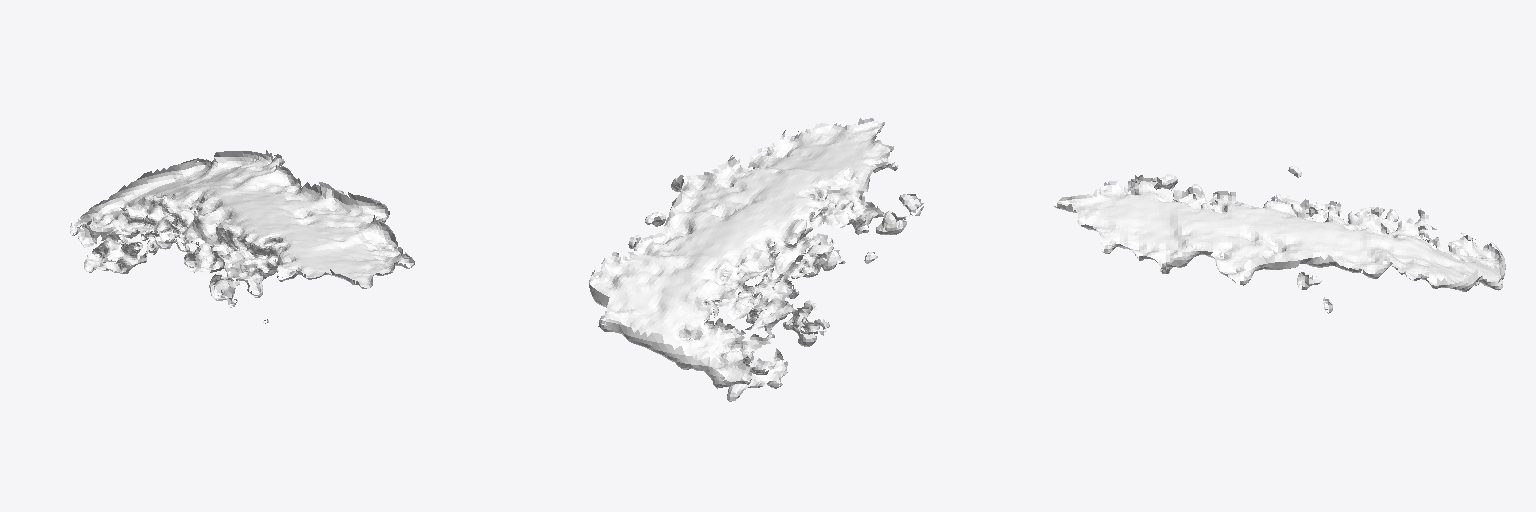
File: Nature2.obj
The picture shows the model from 3 angles: view 1: azimuth 30°, elevation 25°; view 2: azimuth 150°, elevation 25°; view 3: azimuth 270°, elevation 25°; orthographic projection.
Bounding box in the file's own units: 4.39 × 2.14 × 7.45.